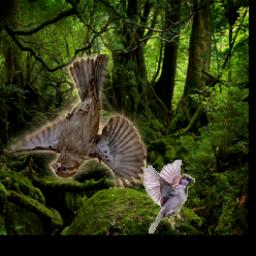Sparrow: (0, 54, 146, 191), (142, 161, 195, 235)
